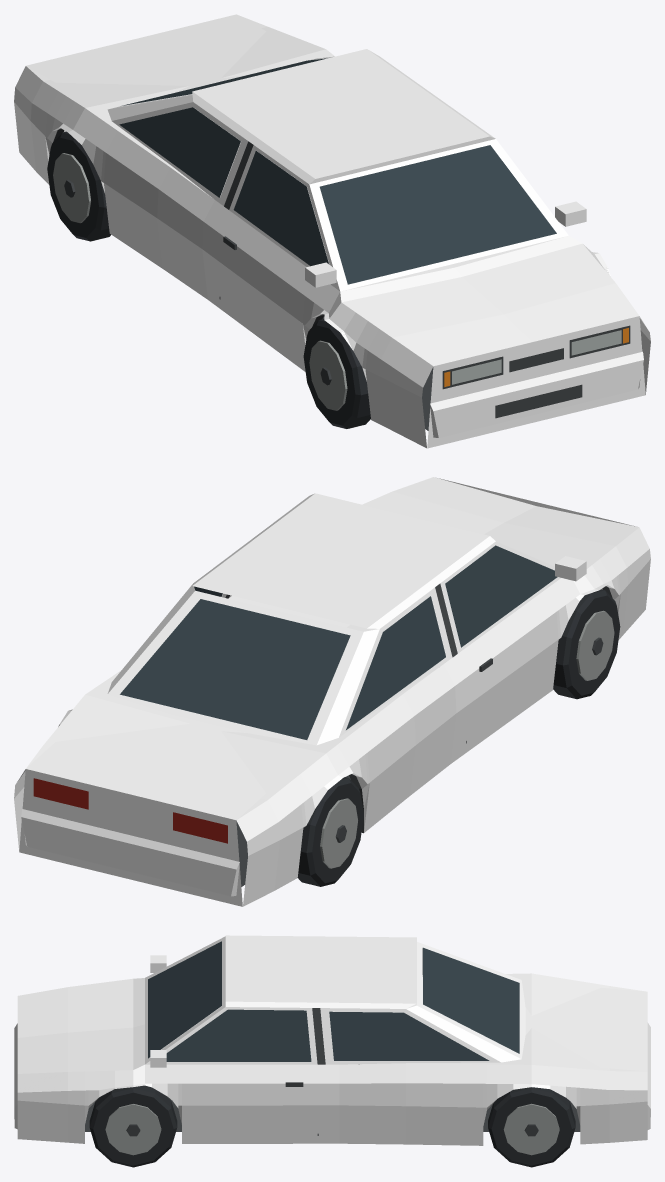
The model's file is kestrin_prairie_hawk.glb.
The picture shows the model from 3 angles, top to bottom: view 1: azimuth 30°, elevation 25°; view 2: azimuth 150°, elevation 25°; view 3: azimuth 270°, elevation 25°; orthographic projection. The views are drawn at different scales.
Visible parts, largest first — view 1: kestrin_prairie_hawk; view 2: kestrin_prairie_hawk; view 3: kestrin_prairie_hawk.
Part boxes in pixels (x1,y1,x2,y2): kestrin_prairie_hawk: (14,14,650,448); kestrin_prairie_hawk: (14,477,650,906); kestrin_prairie_hawk: (14,935,650,1167).
Bounding box in the file's own units: 1.82 × 1.22 × 4.7.
8 materials, 1 textured.
